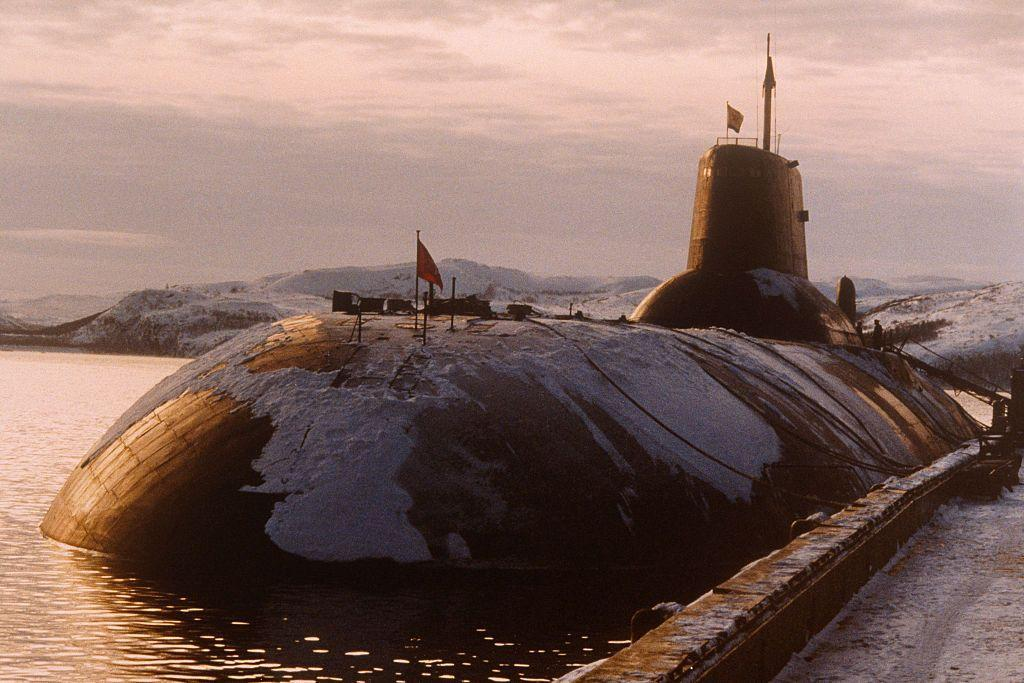Submarine: (30, 15, 1012, 623)
